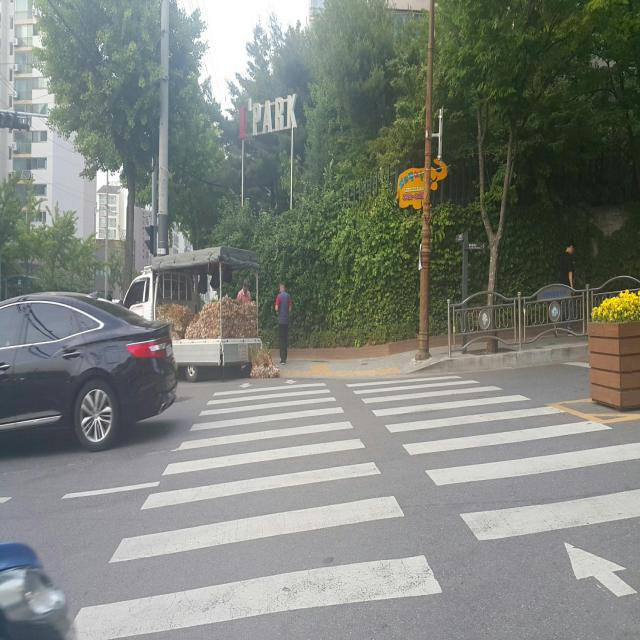횡단보도: (62, 373, 640, 640)
